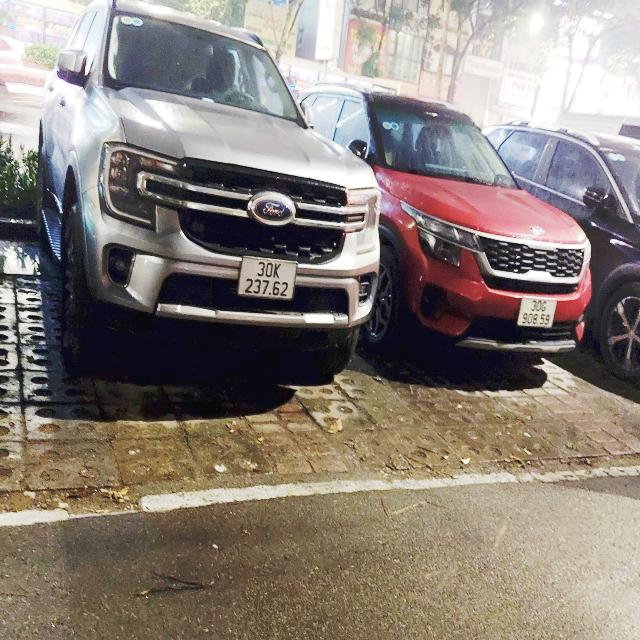license_plate: (235, 252, 303, 305), (515, 295, 562, 333)
